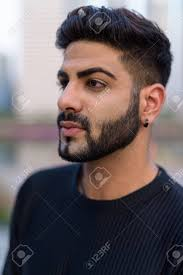Indian_Male: (55, 30, 146, 156)
